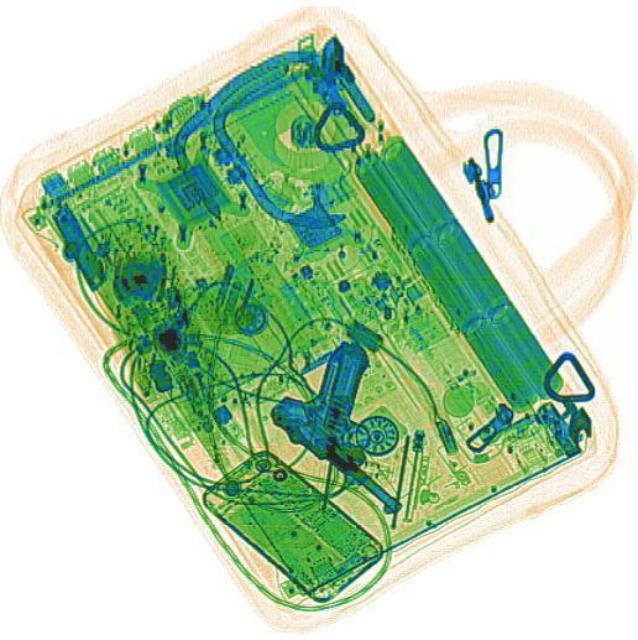Gun: (267, 337, 467, 515)
